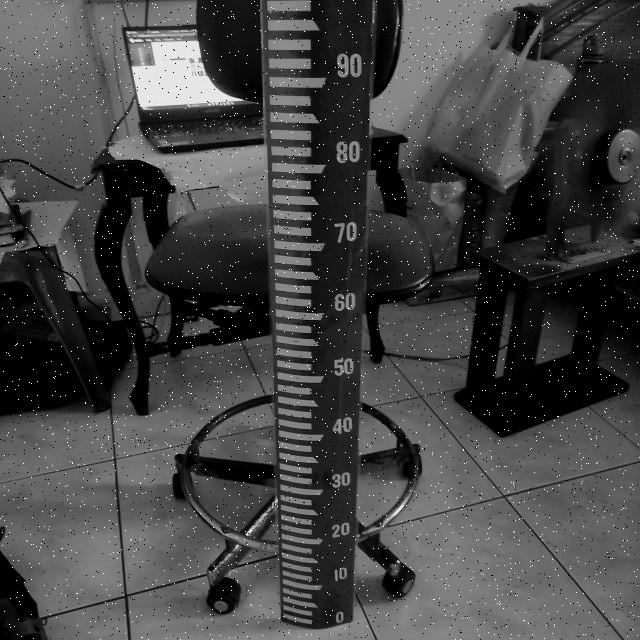10: (331, 564, 349, 584)
20: (330, 522, 351, 541)
30: (331, 470, 351, 490)
40: (330, 416, 355, 438)
50: (331, 357, 356, 377)
60: (332, 291, 357, 314)
70: (331, 218, 362, 246)
80: (333, 136, 364, 166)
90: (333, 48, 367, 82)
staff: (261, 1, 373, 627)
